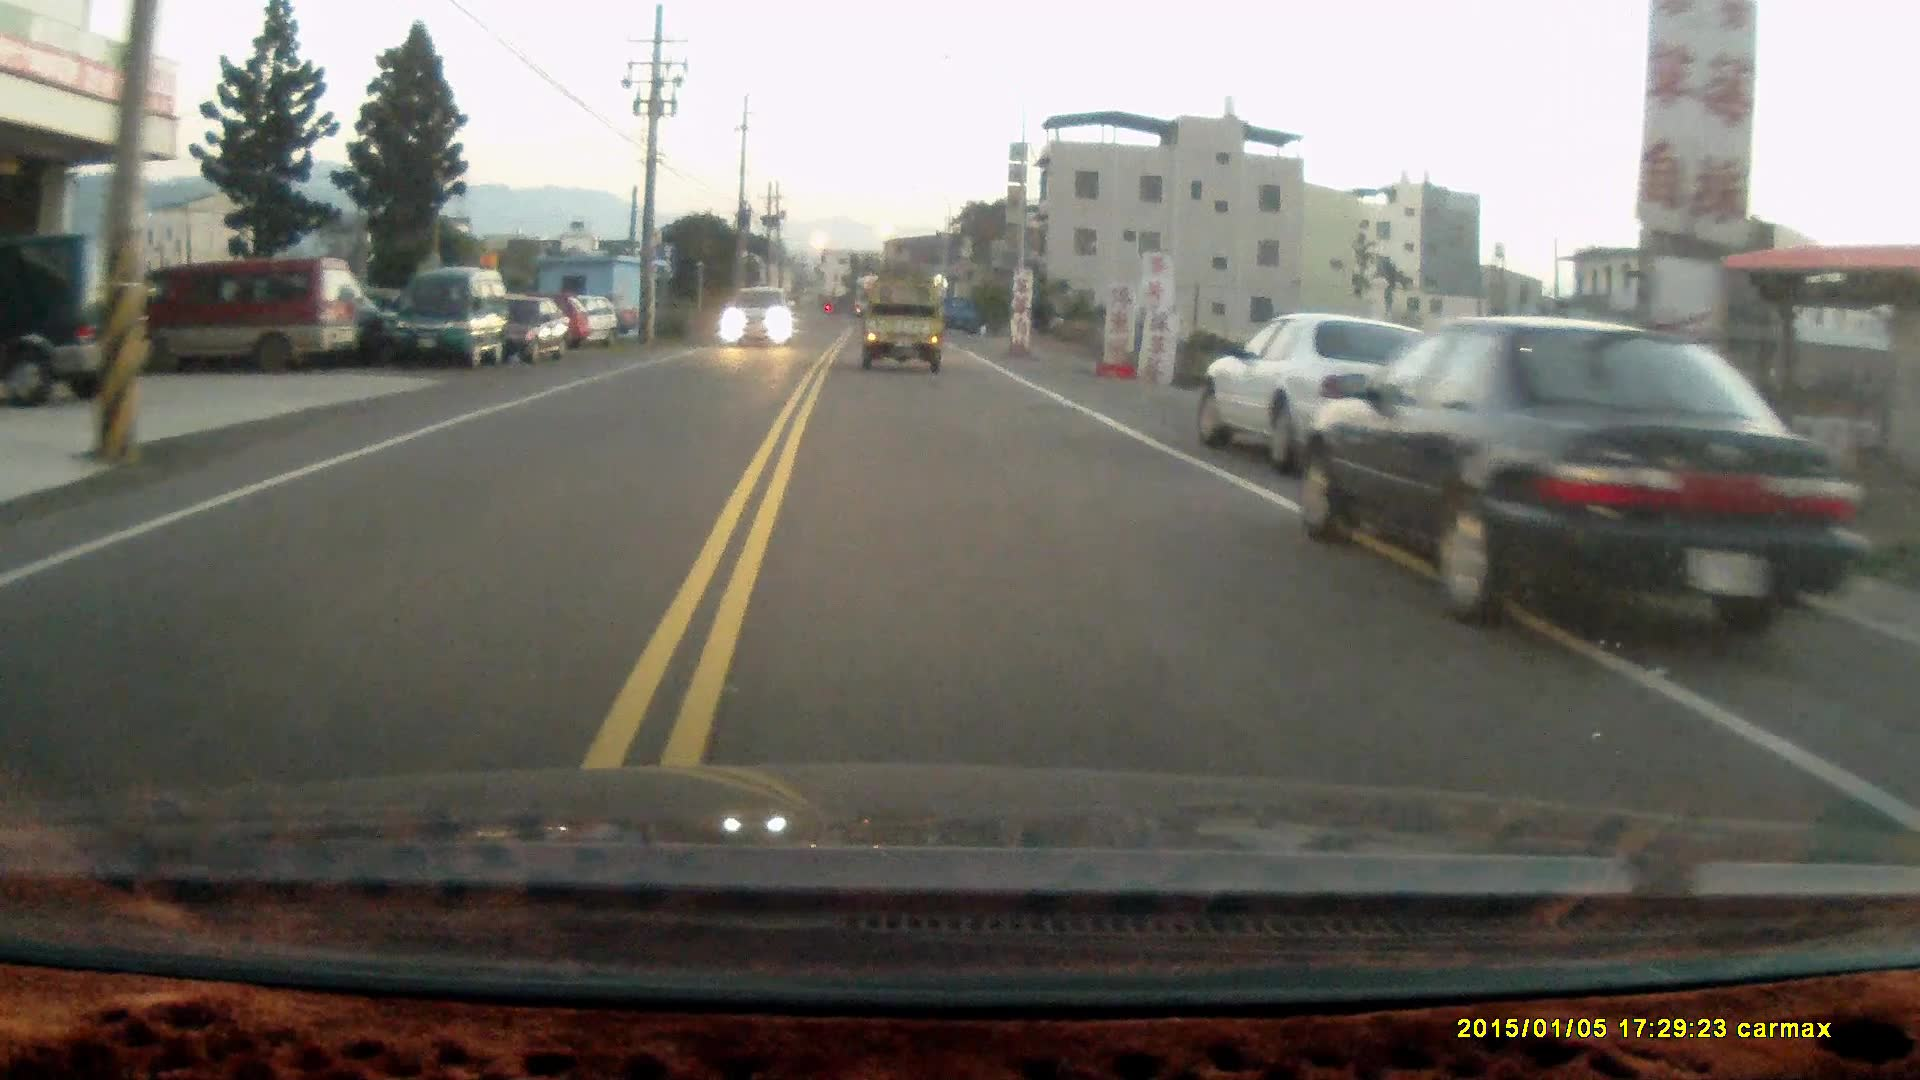vehicle: (1302, 320, 1803, 686), (1197, 316, 1429, 469), (112, 255, 367, 378), (0, 240, 161, 401), (392, 270, 513, 375), (864, 281, 944, 376), (483, 294, 571, 367), (716, 289, 796, 349)
